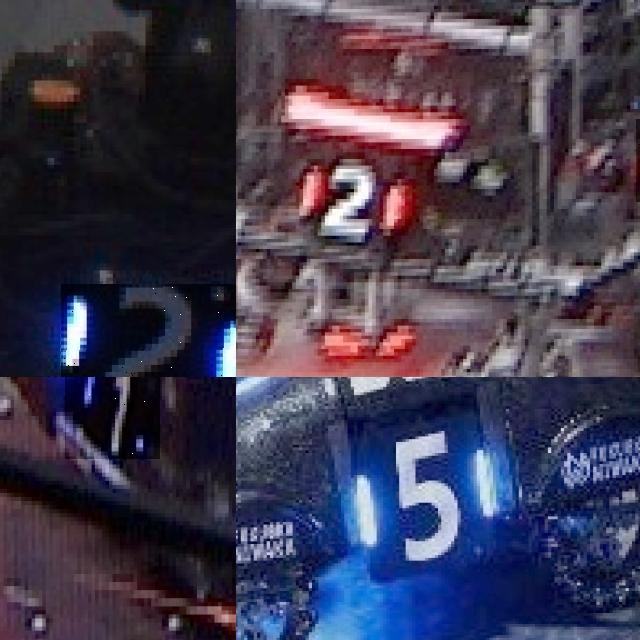B1: (65, 377, 160, 458)
B2: (60, 284, 236, 377)
B5: (351, 428, 490, 561)
R2: (294, 152, 410, 242)
